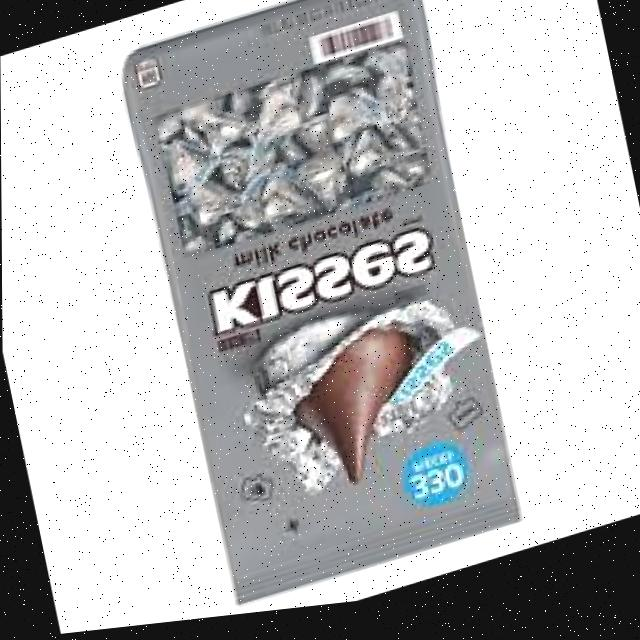kisses: (338, 117, 412, 190), (255, 154, 312, 228), (245, 103, 310, 163), (180, 182, 243, 241), (170, 147, 227, 205), (321, 92, 374, 151)
